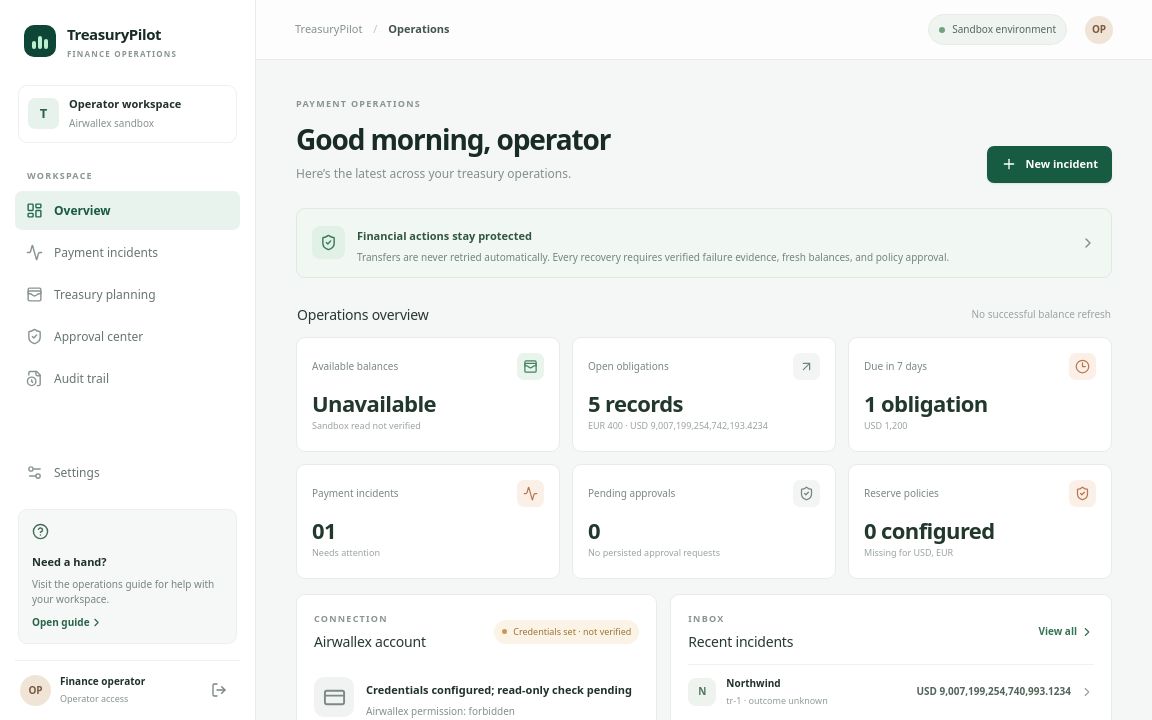
Test: TreasuryPilot shell › shows persisted obligations and audit data while failing closed on an unverified balance read
This screenshot has width=1152, height=720.
Expected: the text "5 records" is shown, [588,388,683,418]
Expected: the text "EUR 400 · USD 9,007,199,254,742,193.4234" is shown, [588,418,768,432]
What coordinates should you click on to do the following:
click the link "Approval center"
I would click on:
 (85, 336)
Its box is [26,328,143,345].
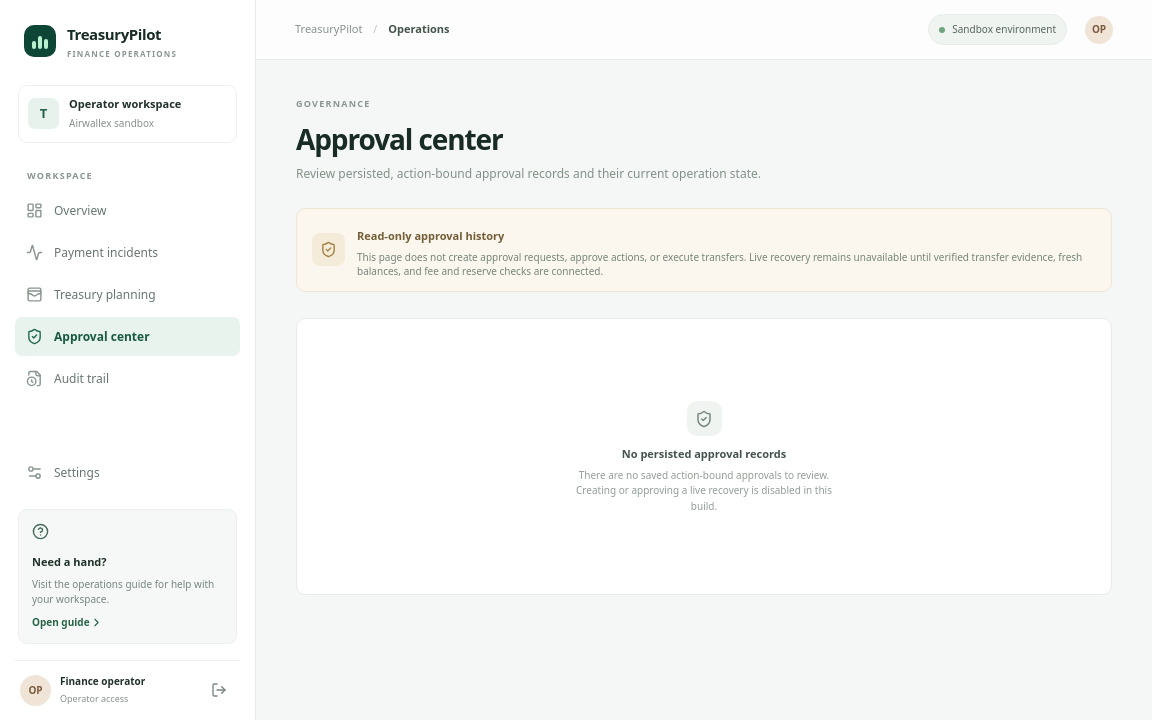
Result: the text "Read-only approval history" is shown at [357,228,504,242]
Result: the text "No persisted approval records" is shown at [622,446,786,462]
